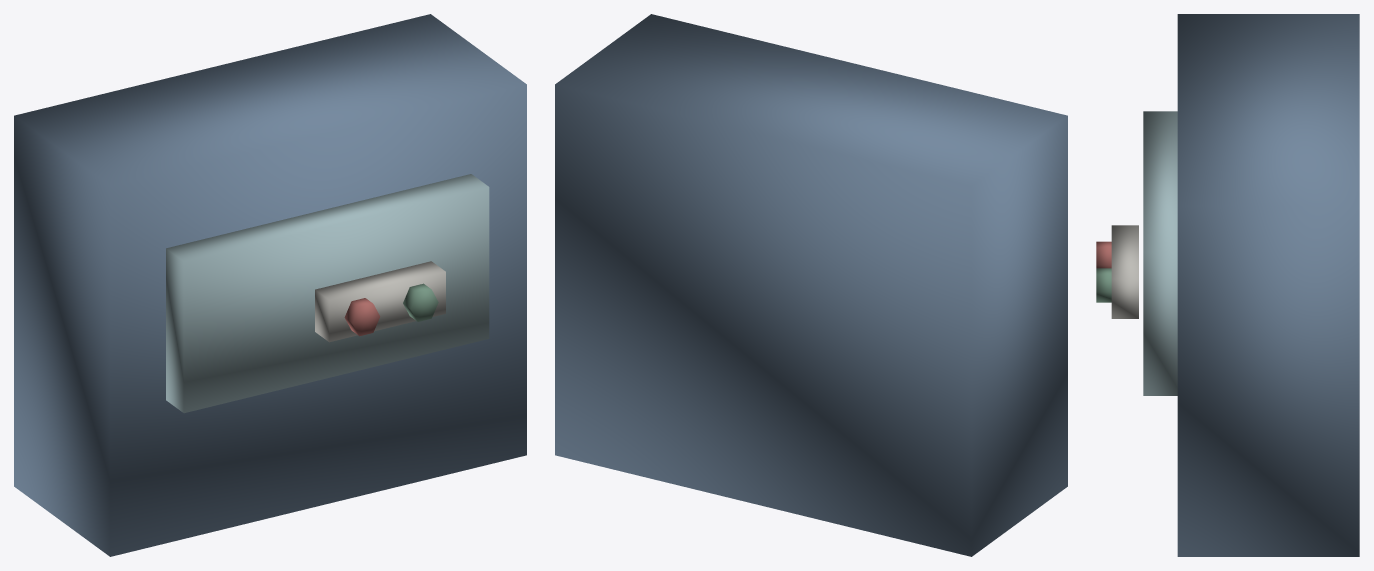
Rendered from price_checker__tall.glb.
3 renders of one model, left to right at view 1: azimuth 30°, elevation 25°; view 2: azimuth 150°, elevation 25°; view 3: azimuth 270°, elevation 25°, orthographic. The views are drawn at different scales.
Parts seen in each view (by area): view 1: world; view 2: world; view 3: world.
Boxes of the visible parts, box(x1,y1,x2,y2) form: world: box(14, 14, 526, 556); world: box(555, 14, 1067, 556); world: box(1096, 14, 1359, 556).
Size of the model in its own units: 0.3 by 0.2552 by 0.1735.
